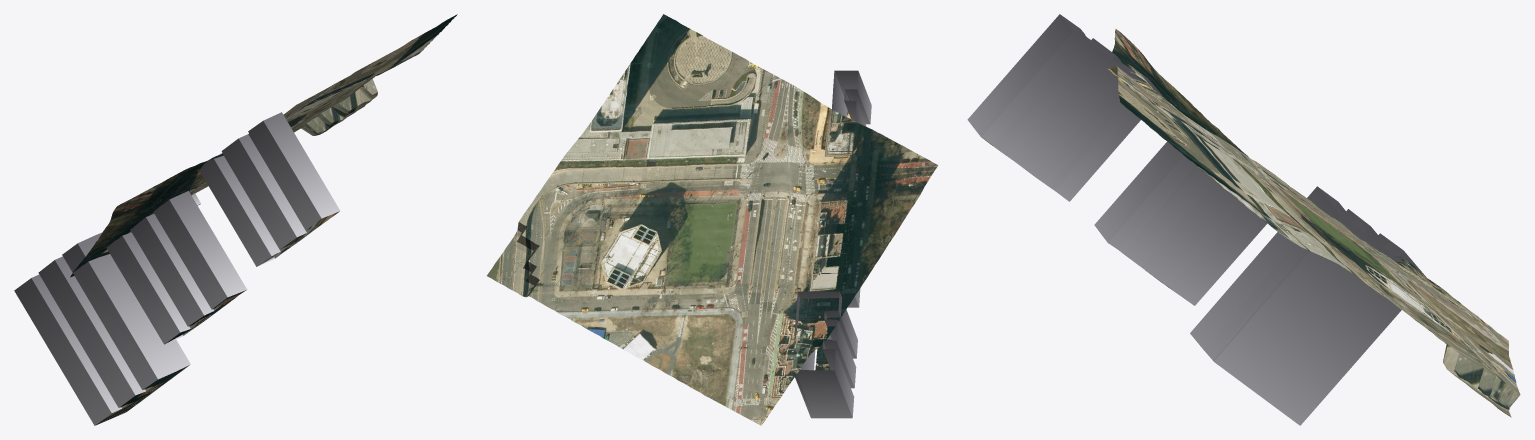
3 renders of one model, left to right at view 1: azimuth 30°, elevation 25°; view 2: azimuth 150°, elevation 25°; view 3: azimuth 270°, elevation 25°, orthographic. The views are drawn at different scales.
Size of the model in its own units: 263 by 242 by 253.
1 material, 1 textured.
